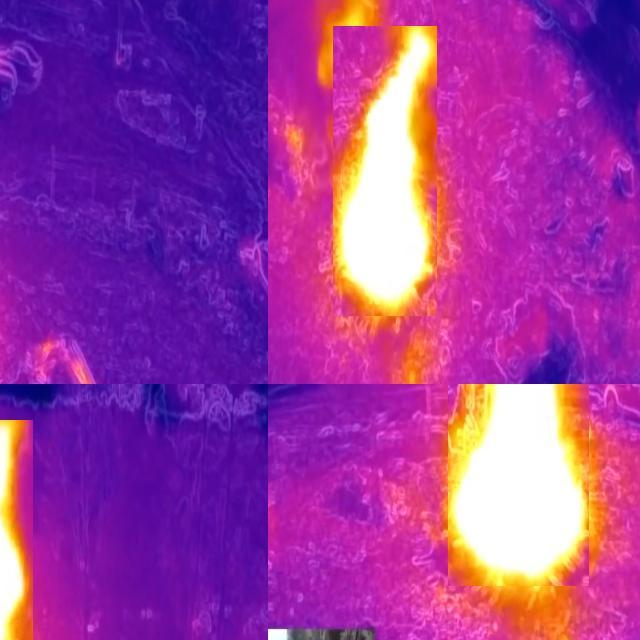fire: (333, 26, 437, 316), (448, 385, 589, 586), (3, 417, 35, 640)
